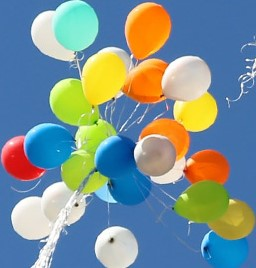Balloon: (125, 2, 171, 58), (49, 78, 97, 126), (53, 1, 99, 51), (161, 55, 210, 101), (23, 123, 75, 166), (172, 180, 227, 220), (82, 53, 125, 104), (202, 229, 250, 268), (95, 225, 138, 268), (134, 134, 176, 177), (12, 195, 52, 240), (94, 135, 136, 177), (43, 184, 85, 224), (63, 152, 102, 192), (186, 149, 229, 185), (124, 65, 163, 102), (109, 177, 149, 205)
